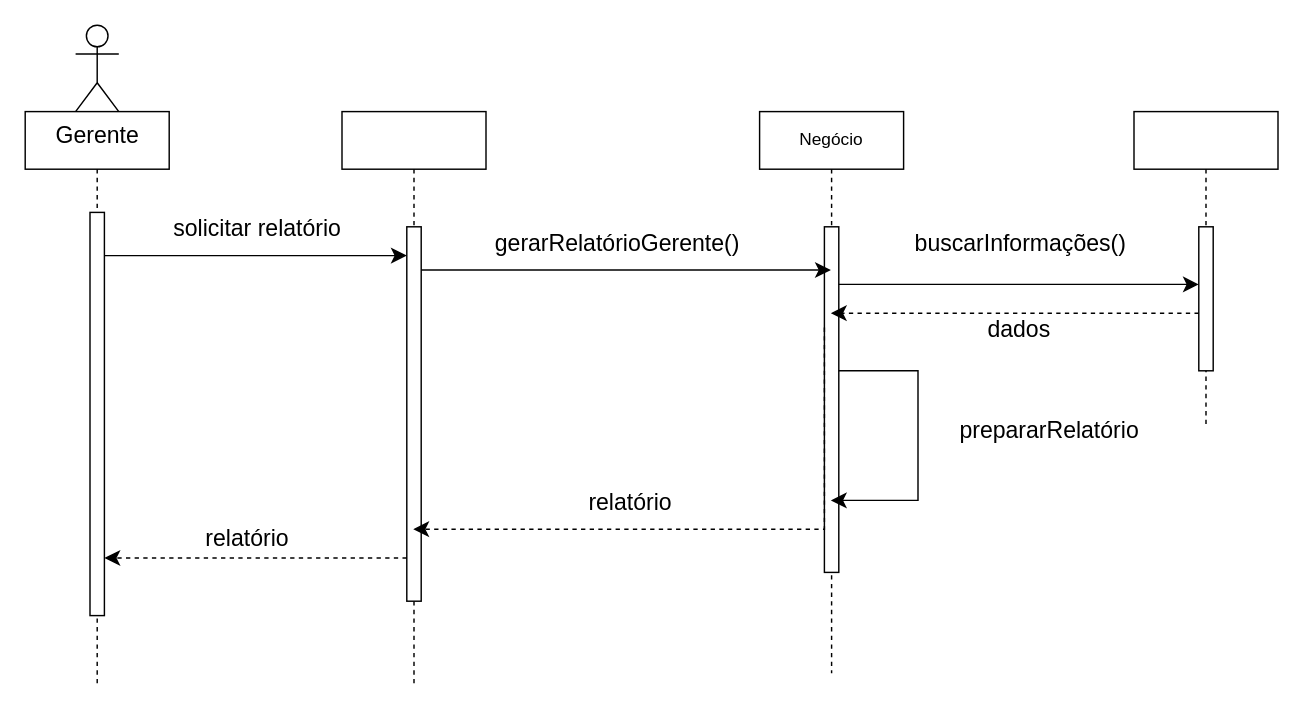
Image size: 1303x713. Some labels were removed from this diagram. Each missing label, with the box of its shape:
Banco de Dados: (1133, 110, 1278, 428)
Tela: (341, 110, 486, 688)
